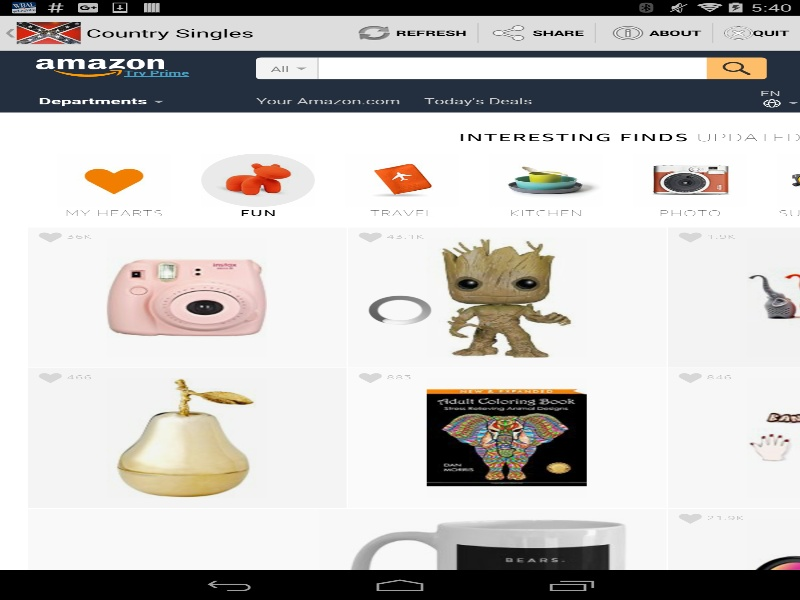Button: (311, 155, 480, 165)
Input: (311, 94, 500, 102), (311, 145, 442, 153)
